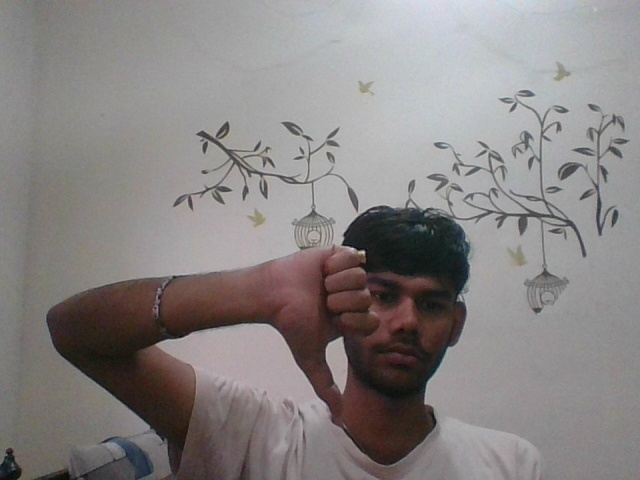No: (256, 237, 391, 423)
